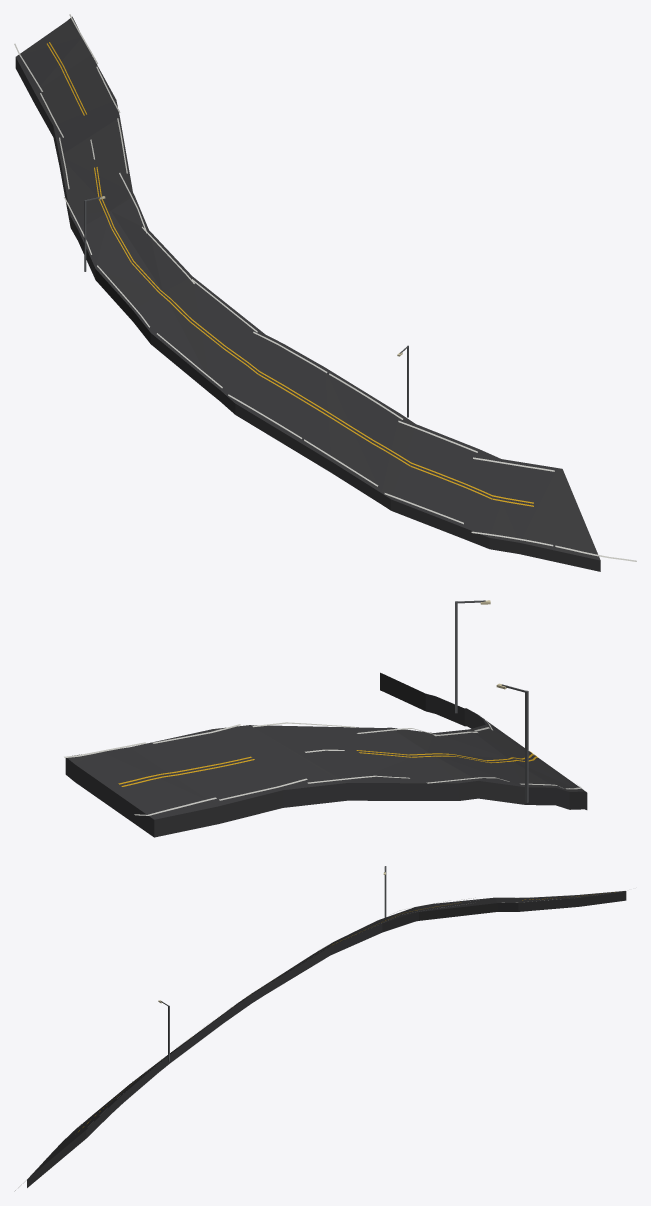
Rendered from 17-109472-59445.eb9cfa67.glb.
The picture shows the model from 3 angles, top to bottom: view 1: azimuth 30°, elevation 25°; view 2: azimuth 150°, elevation 25°; view 3: azimuth 270°, elevation 25°; orthographic projection. The views are drawn at different scales.
Bounding box in the file's own units: 34.71 × 32.76 × 76.21.
